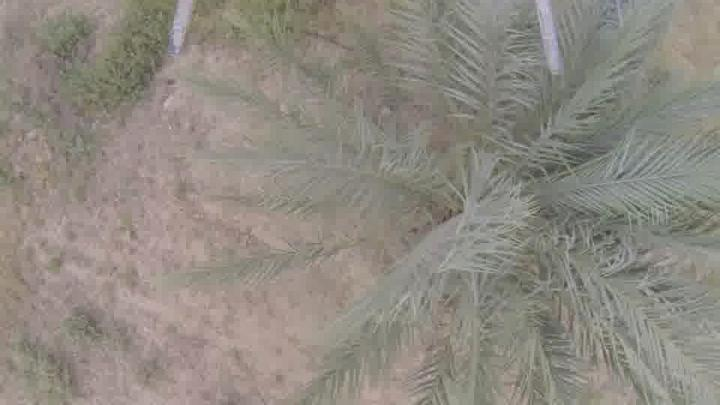Date-Palm-Crown: (300, 52, 686, 358)
